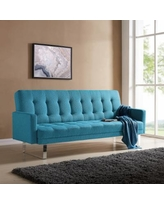chairs: (12, 89, 147, 161)
